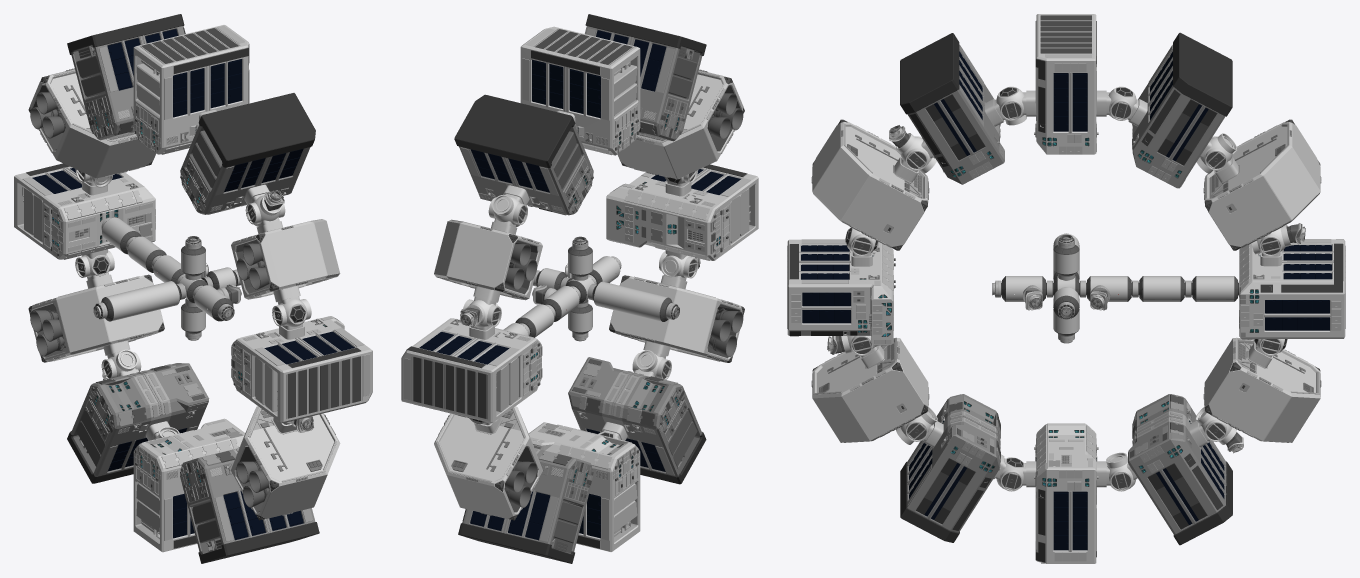
The picture shows the model from 3 angles, left to right: view 1: azimuth 30°, elevation 25°; view 2: azimuth 150°, elevation 25°; view 3: azimuth 270°, elevation 25°; orthographic projection. The views are drawn at different scales.
Parts seen in each view (by area): view 1: Pod.001, Lab, Command, Pod.003, Habitation, Engine.002, DockingHub, Pod.002, Habitation.001, Pod, Engine, Engine.001 (+7 smaller); view 2: Pod, Lab, Habitation, Command, Pod.002, Engine.001, Pod.003, Habitation.001, DockingHub, Pod.001, Engine.003, Engine.002 (+7 smaller); view 3: Pod, Pod.003, Pod.001, Pod.002, Command, Habitation, Engine, Engine.003, Lab, Habitation.001, Engine.001, Engine.002 (+13 smaller).
Boxes of the visible parts, <box> form: Pod.001: <box>180,93,315,214</box>; Lab: <box>133,25,249,154</box>; Command: <box>231,316,372,423</box>; Pod.003: <box>67,363,209,483</box>; Habitation: <box>14,163,155,259</box>; Engine.002: <box>231,406,340,520</box>; DockingHub: <box>95,217,240,338</box>; Pod.002: <box>180,447,319,563</box>; Habitation.001: <box>133,418,245,552</box>; Pod: <box>67,14,185,140</box>; Engine: <box>28,68,156,178</box>; Engine.001: <box>28,274,164,362</box>; Pod: <box>454,94,593,215</box>; Lab: <box>520,26,640,155</box>; Habitation: <box>401,318,542,423</box>; Command: <box>606,164,758,260</box>; Pod.002: <box>568,357,706,484</box>; Engine.001: <box>434,406,542,520</box>; Pod.003: <box>458,448,593,563</box>; Habitation.001: <box>528,422,640,551</box>; DockingHub: <box>503,239,678,339</box>; Pod.001: <box>584,14,706,141</box>; Engine.003: <box>617,69,744,179</box>; Engine.002: <box>609,275,744,362</box>; Pod: <box>1132,32,1232,188</box>; Pod.003: <box>1128,394,1232,545</box>; Pod.001: <box>900,33,1004,184</box>; Pod.002: <box>900,394,1000,542</box>; Command: <box>787,239,895,345</box>; Habitation: <box>1239,239,1345,339</box>; Engine: <box>1203,119,1321,250</box>; Engine.003: <box>811,119,929,250</box>; Lab: <box>1034,14,1098,154</box>; Habitation.001: <box>1034,423,1098,563</box>; Engine.001: <box>1203,337,1321,442</box>; Engine.002: <box>811,337,929,442</box>.
Bounding box in the file's own units: 29.1 × 87.36 × 87.36.
12 materials, 12 textured.
